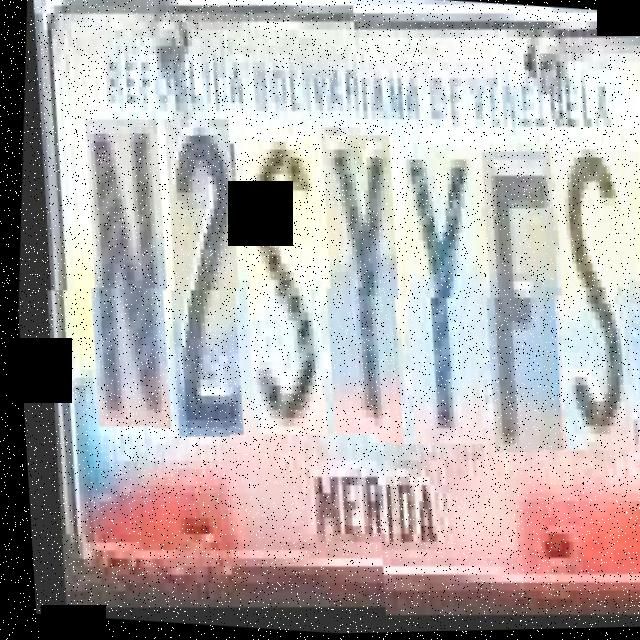2: (133, 125, 261, 452)
F: (450, 154, 578, 465)
N: (53, 123, 189, 444)
S: (208, 133, 343, 454), (519, 147, 640, 468)
Y: (289, 135, 418, 456), (370, 145, 502, 456)
